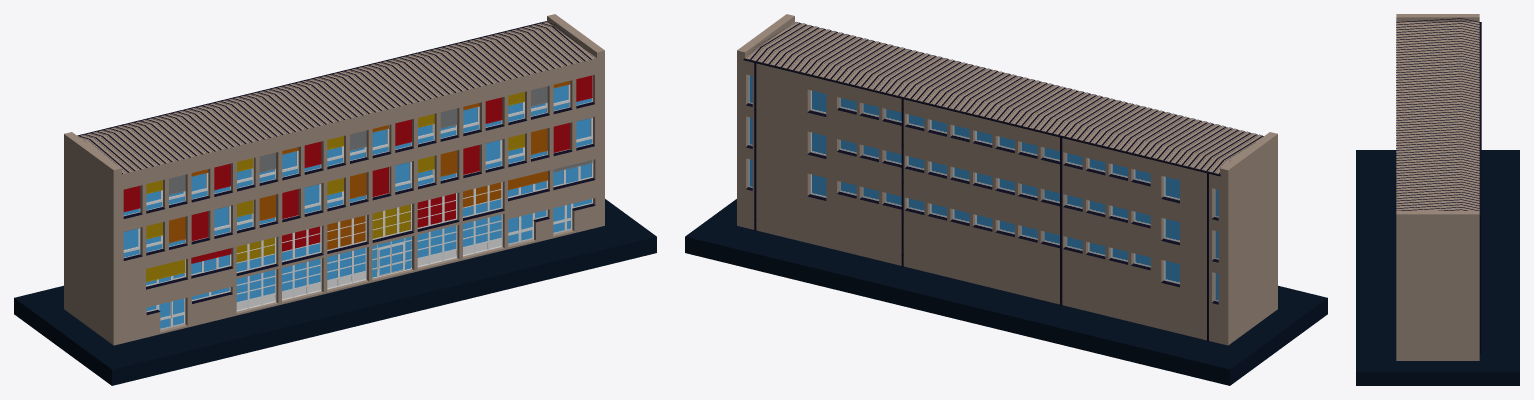
The model's file is building-07.gltf.
The picture shows the model from 3 angles, left to right: view 1: azimuth 30°, elevation 25°; view 2: azimuth 150°, elevation 25°; view 3: azimuth 270°, elevation 25°; orthographic projection. The views are drawn at different scales.
Parts seen in each view (by area): view 1: Plane, Plane.001, Roof, Plane.020, Plane.006, Plane.007, Plane.014, Plane.021, Plane.010, Plane.015, Plane.018, Gutter (+3 smaller); view 2: Plane, Plane.001, Roof, Gutter; view 3: Plane, Plane.001, Roof, Gutter, Gutter-tube.003.
Part boxes in pixels (box(x1,y1,x2,y2)): Plane: box(64, 14, 604, 345); Plane.001: box(14, 199, 656, 385); Roof: box(78, 22, 594, 174); Plane.020: box(191, 167, 388, 240); Plane.006: box(123, 141, 321, 212); Plane.007: box(395, 75, 592, 145); Plane.014: box(169, 172, 366, 243); Plane.021: box(463, 123, 570, 174); Plane.010: box(169, 130, 366, 194); Plane.015: box(440, 128, 547, 176); Plane.018: box(146, 178, 343, 239); Gutter: box(77, 21, 546, 135); Plane: box(737, 14, 1277, 345); Plane.001: box(685, 199, 1327, 385); Roof: box(747, 22, 1263, 174); Gutter: box(743, 58, 1220, 176); Plane: box(1396, 14, 1479, 360); Plane.001: box(1356, 150, 1519, 385); Roof: box(1396, 18, 1479, 213); Gutter: box(1479, 22, 1481, 217); Gutter-tube.003: box(1480, 217, 1481, 353).
Size of the model in its own units: 17.67 by 5.94 by 5.5.
